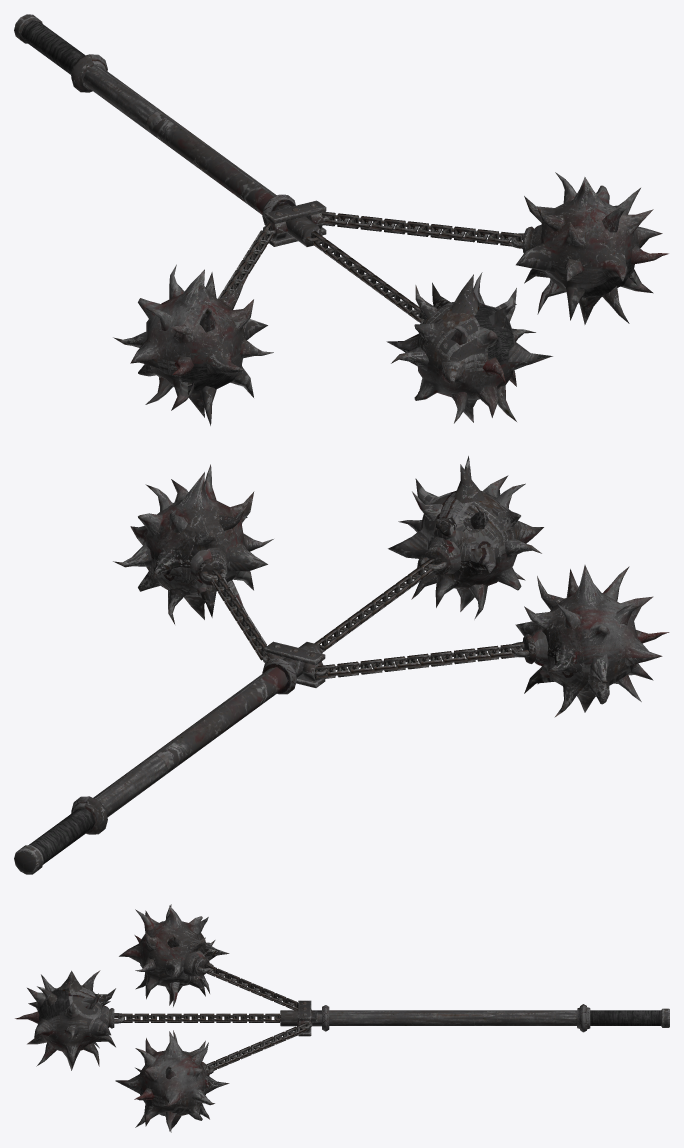
File: nightriderflail.fbx
The picture shows the model from 3 angles, top to bottom: view 1: azimuth 30°, elevation 25°; view 2: azimuth 150°, elevation 25°; view 3: azimuth 270°, elevation 25°; orthographic projection. The views are drawn at different scales.
Visible parts, largest first — view 1: WP_A_1251; view 2: WP_A_1251; view 3: WP_A_1251.
Boxes of the visible parts, x1,y1,x2,y2 form: WP_A_1251: (14, 14, 668, 425); WP_A_1251: (14, 456, 669, 874); WP_A_1251: (15, 904, 669, 1132).
Bounding box in the file's own units: 71.52 × 19.13 × 113.
Materials: 1 (1 with a texture image).
